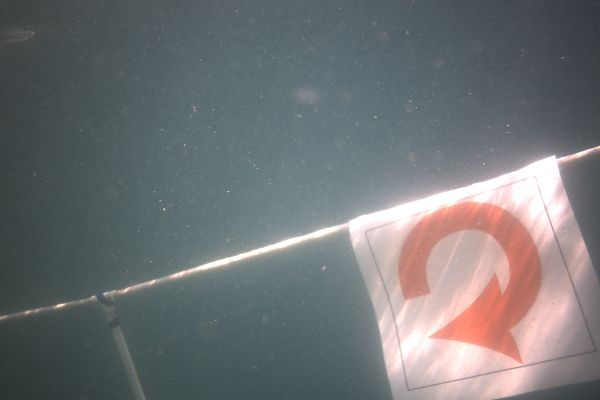gate: (0, 146, 600, 400)
gate_rouge: (346, 156, 600, 400)
